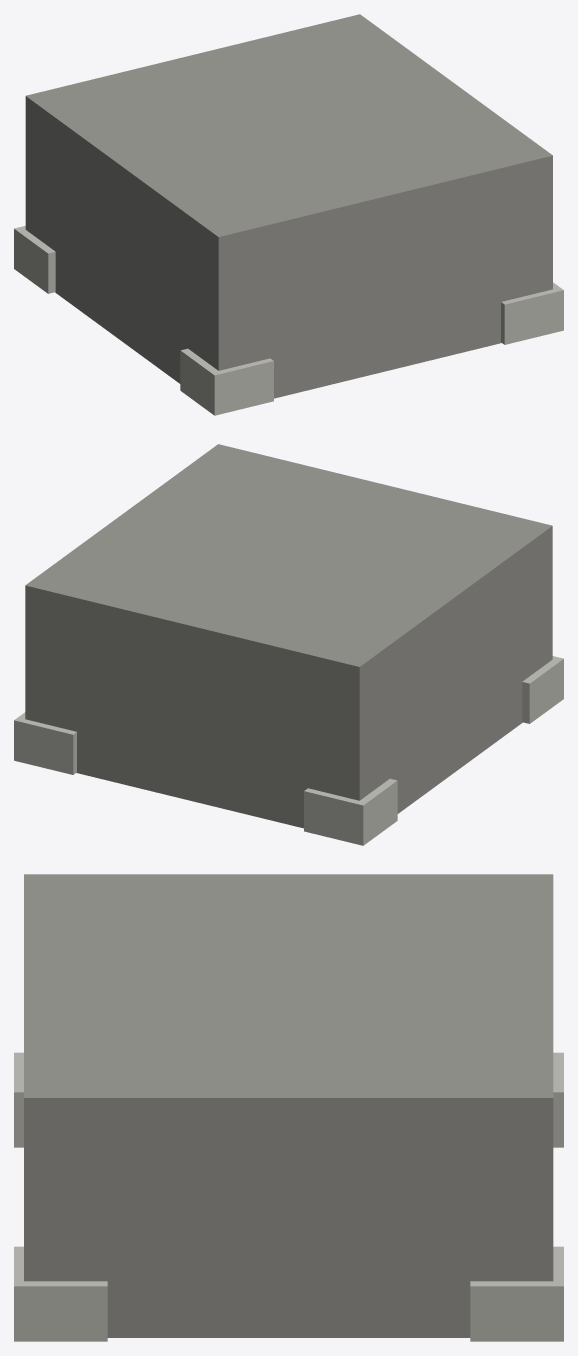
3 renders of one model, top to bottom at view 1: azimuth 30°, elevation 25°; view 2: azimuth 150°, elevation 25°; view 3: azimuth 270°, elevation 25°, orthographic. The views are drawn at different scales.
Visible parts, largest first — view 1: Matrix5; view 2: Matrix5; view 3: Matrix5.
Boxes of the visible parts, x1,y1,x2,y2 form: Matrix5: (14,14,563,415); Matrix5: (14,444,563,845); Matrix5: (14,874,563,1341).
Size of the model in its own units: 104 by 50 by 104.
Materials: 1 (1 with a texture image).
